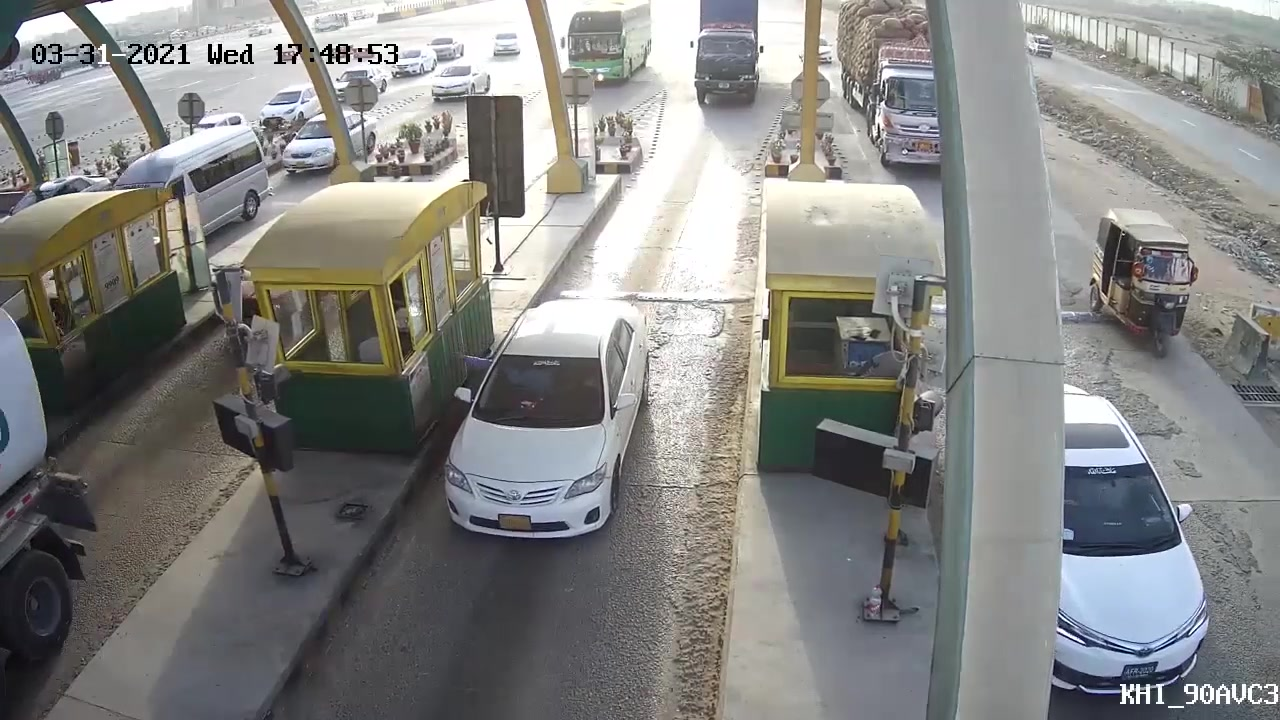F1: (431, 298, 652, 547)
